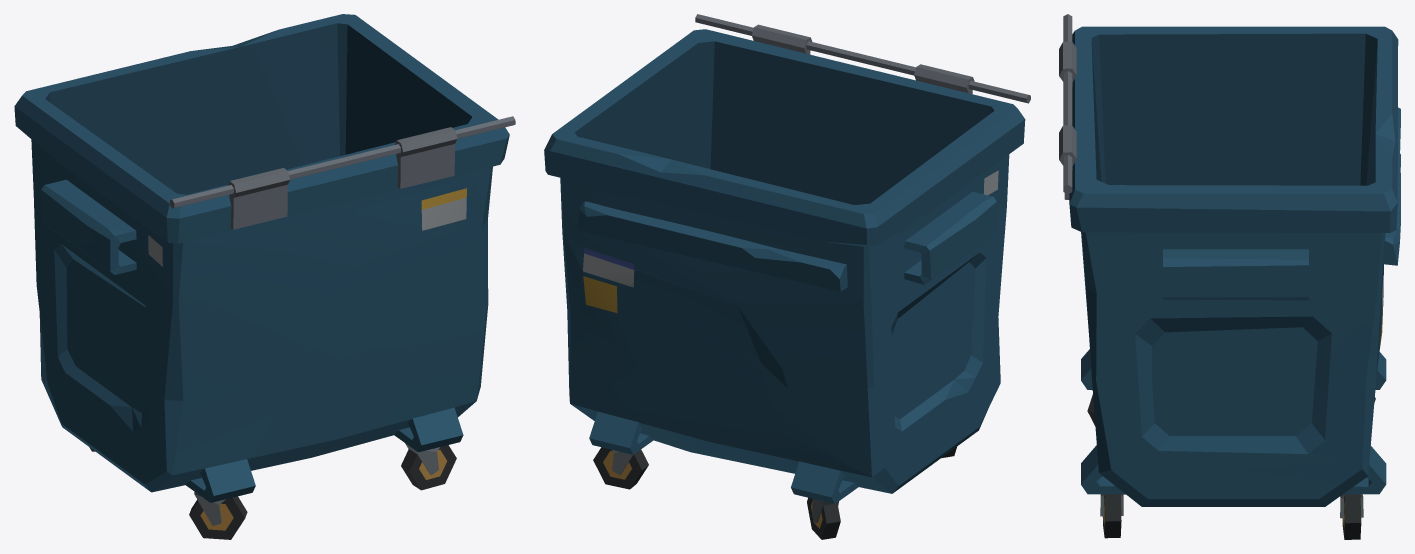
File: SM_Prop_Dumptser_01.obj
The picture shows the model from 3 angles, left to right: view 1: azimuth 30°, elevation 25°; view 2: azimuth 150°, elevation 25°; view 3: azimuth 270°, elevation 25°; orthographic projection. The views are drawn at different scales.
Parts seen in each view (by area): view 1: SM_Prop_Dumptser_01_0; view 2: SM_Prop_Dumptser_01_0; view 3: SM_Prop_Dumptser_01_0.
Part boxes in pixels (x1,y1,x2,y2): SM_Prop_Dumptser_01_0: [14, 14, 515, 539]; SM_Prop_Dumptser_01_0: [544, 14, 1030, 539]; SM_Prop_Dumptser_01_0: [1059, 14, 1400, 539].
Bounding box in the file's own units: 1.54 × 1.47 × 1.19.
Materials: 1 (1 with a texture image).
